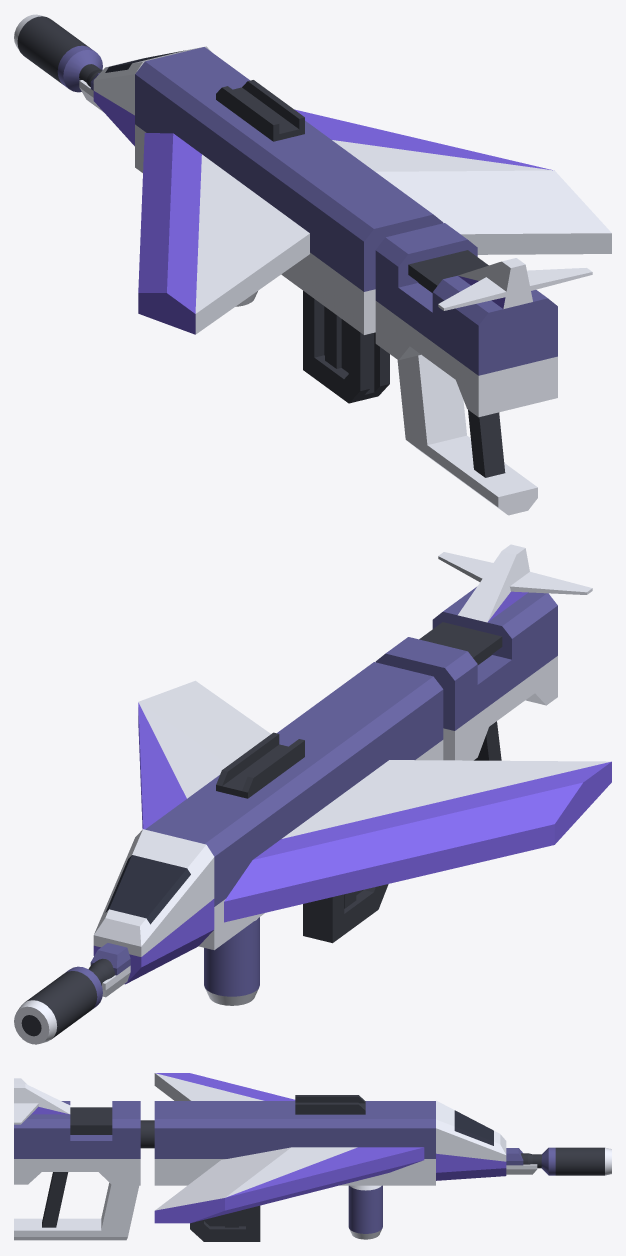
The model's file is airplaneGun.glb.
3 renders of one model, top to bottom at view 1: azimuth 30°, elevation 25°; view 2: azimuth 150°, elevation 25°; view 3: azimuth 270°, elevation 25°, orthographic. The views are drawn at different scales.
Parts seen in each view (by area): view 1: mergedBlocks(Clone); view 2: mergedBlocks(Clone); view 3: mergedBlocks(Clone).
Part boxes in pixels (box(x1,y1,x2,y2)): mergedBlocks(Clone): box(14, 14, 611, 515); mergedBlocks(Clone): box(14, 544, 611, 1044); mergedBlocks(Clone): box(14, 1073, 611, 1241).
Size of the model in its own units: 0.42 by 0.2378 by 0.85.
